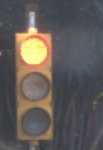Red: (7, 19, 71, 150)
